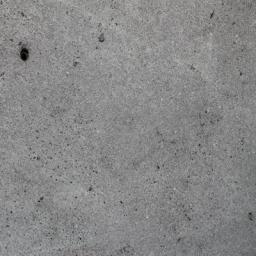FOD: (19, 48, 34, 65)
